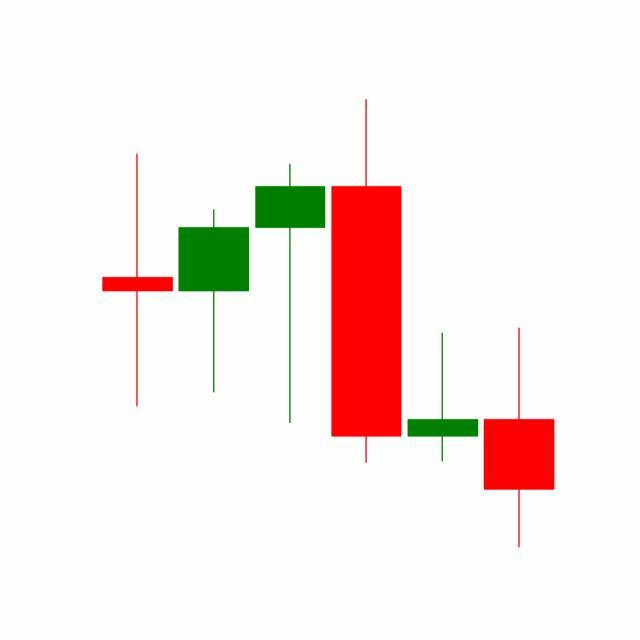Gravestone Doji: (404, 331, 482, 464)
